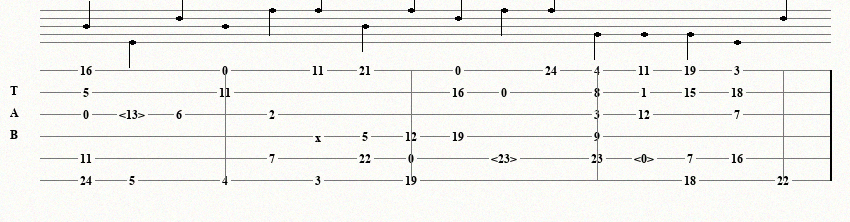0: (83, 108, 93, 121), (222, 64, 232, 77), (408, 152, 418, 165), (455, 64, 465, 77), (501, 86, 511, 99)
1: (641, 86, 651, 99)
11: (80, 152, 96, 165), (219, 86, 235, 99), (312, 64, 328, 77), (638, 64, 654, 77)
12: (405, 130, 421, 143), (638, 108, 654, 121)
15: (684, 86, 700, 99)
16: (80, 64, 96, 77), (452, 86, 468, 99), (731, 152, 747, 165)
18: (684, 174, 700, 187), (731, 86, 747, 99)
19: (405, 174, 421, 187), (452, 130, 468, 143), (684, 64, 700, 77)
2: (269, 108, 279, 121)
21: (359, 64, 375, 77)
22: (359, 152, 375, 165), (777, 174, 793, 187)
23: (591, 152, 607, 165)
24: (80, 174, 96, 187), (545, 64, 561, 77)
3: (315, 174, 325, 187), (594, 108, 604, 121), (734, 64, 744, 77)
4: (222, 174, 232, 187), (594, 64, 604, 77)
5: (83, 86, 93, 99), (129, 174, 139, 187), (362, 130, 372, 143)
6: (176, 108, 186, 121)
7: (269, 152, 279, 165), (687, 152, 697, 165), (734, 108, 744, 121)
8: (594, 86, 604, 99)
9: (594, 130, 604, 143)
harmonic: (119, 108, 149, 121), (491, 152, 521, 165), (634, 152, 658, 165)
x: (315, 131, 325, 141)
